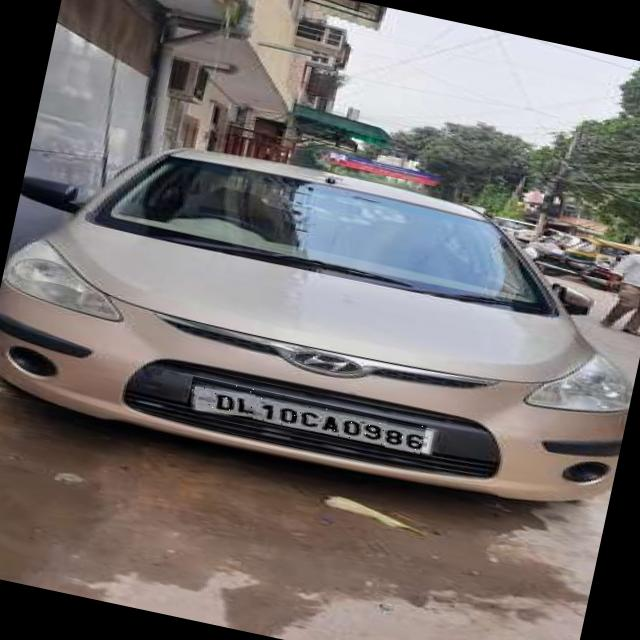Plate: (188, 377, 431, 458)
